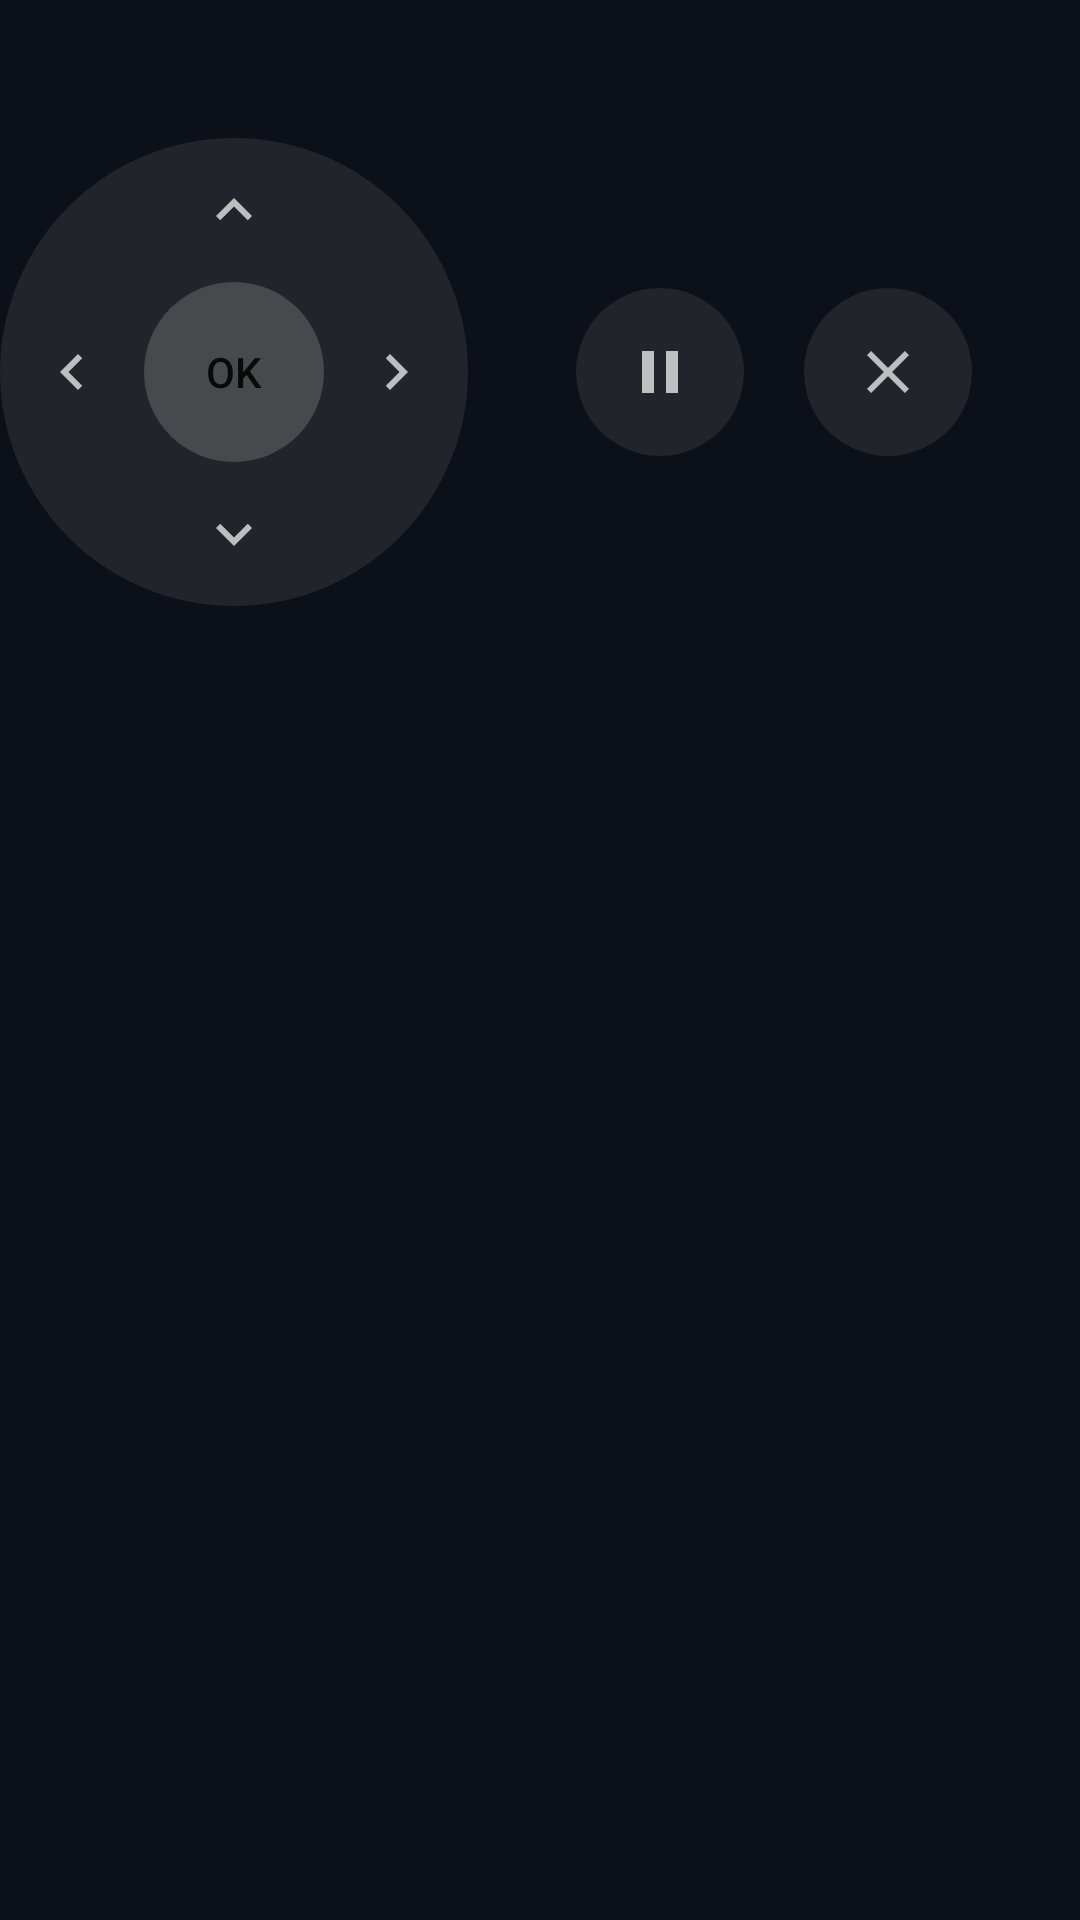

Where icons sit on this 1080w x 1920h app screen, as (x1, y1, x2, y2):
Close: (804, 288, 972, 456)
Down: (216, 524, 252, 546)
Left: (60, 354, 82, 390)
Play or pause: (642, 351, 678, 393)
Right: (386, 354, 408, 390)
Up: (216, 198, 252, 220)
